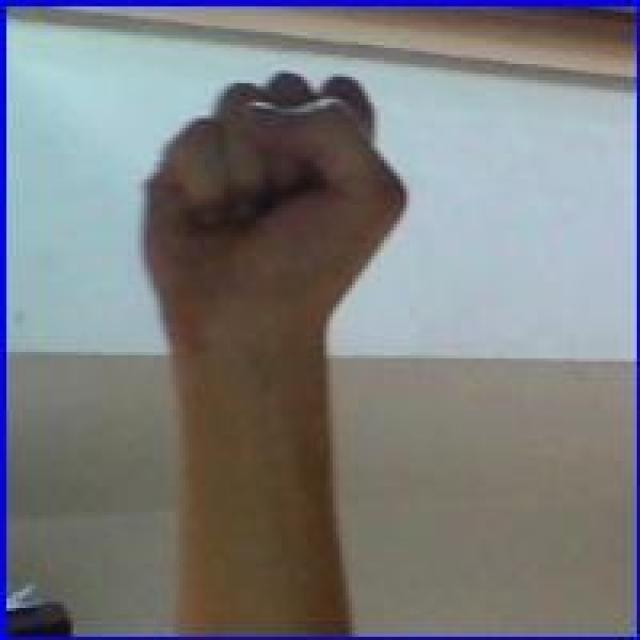S: (134, 46, 420, 360)
